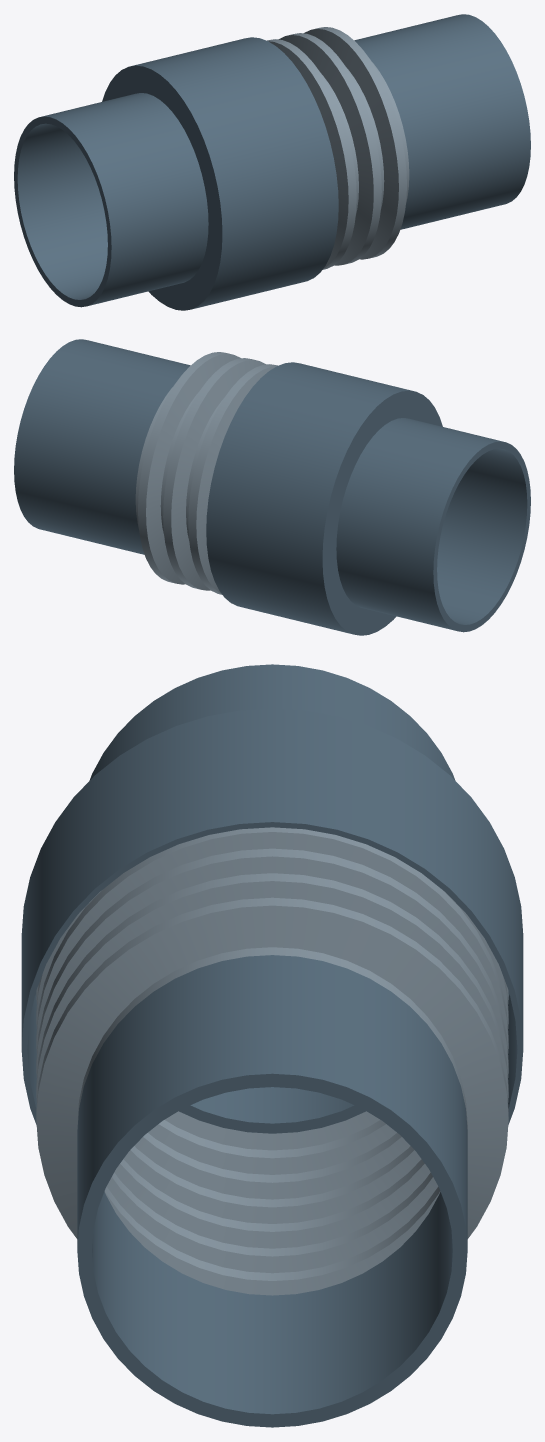
The model's file is silf-dn125-L330-D133-k-o219.glb.
3 views of the same model, one above another, from view 1: azimuth 30°, elevation 25°; view 2: azimuth 150°, elevation 25°; view 3: azimuth 270°, elevation 25° (orthographic). The views are drawn at different scales.
Visible parts, largest first — view 1: osnovanie_kozhuh_1, patrubok_1, patrubok_2, prokladka_silfon_1; view 2: osnovanie_kozhuh_1, patrubok_1, patrubok_2, prokladka_silfon_1; view 3: prokladka_silfon_1, patrubok_2, osnovanie_kozhuh_1, patrubok_1.
Boxes of the visible parts, bbox=[...] form: osnovanie_kozhuh_1: bbox=[102, 37, 338, 310]; patrubok_1: bbox=[14, 93, 208, 307]; patrubok_2: bbox=[354, 14, 530, 229]; prokladka_silfon_1: bbox=[267, 27, 409, 269]; osnovanie_kozhuh_1: bbox=[206, 362, 442, 635]; patrubok_1: bbox=[336, 418, 530, 632]; patrubok_2: bbox=[14, 339, 190, 554]; prokladka_silfon_1: bbox=[135, 352, 277, 594]; prokladka_silfon_1: bbox=[36, 827, 508, 1295]; patrubok_2: bbox=[77, 955, 467, 1427]; osnovanie_kozhuh_1: bbox=[21, 708, 523, 1124]; patrubok_1: bbox=[89, 664, 455, 1133].
Size of the model in its own units: 330 by 171 by 171.
